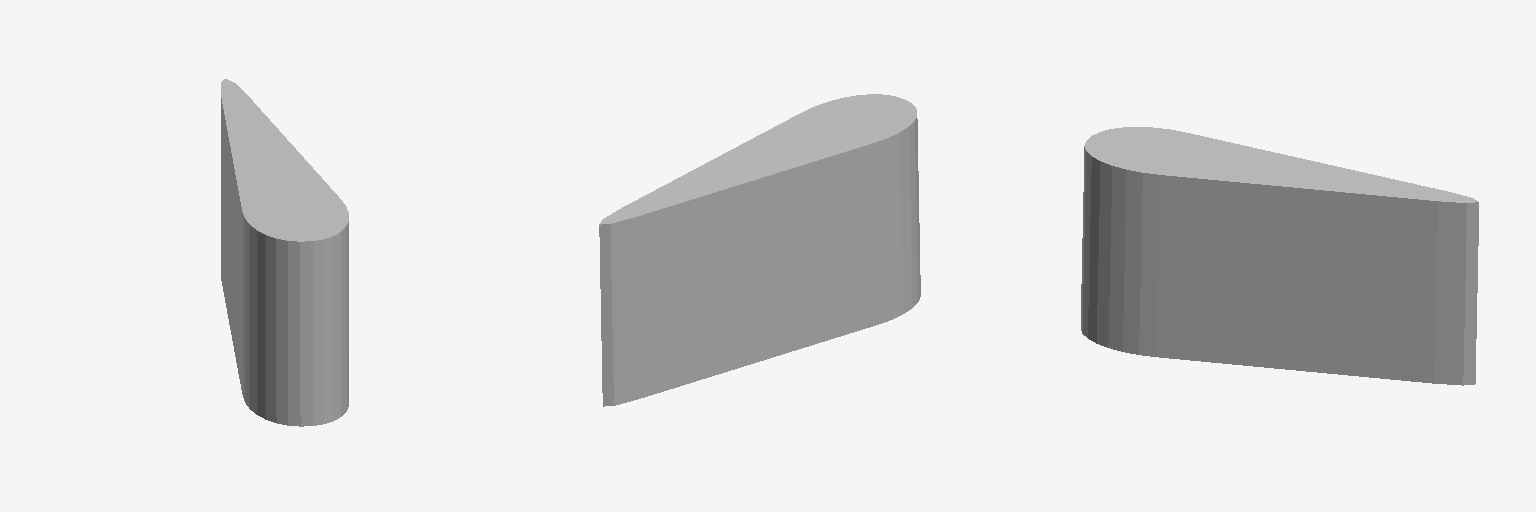
The model's file is flipperleft.obj.
The picture shows the model from 3 angles: view 1: azimuth 30°, elevation 25°; view 2: azimuth 150°, elevation 25°; view 3: azimuth 270°, elevation 25°; orthographic projection.
Size of the model in its own units: 0.8082 by 1.03 by 1.95.